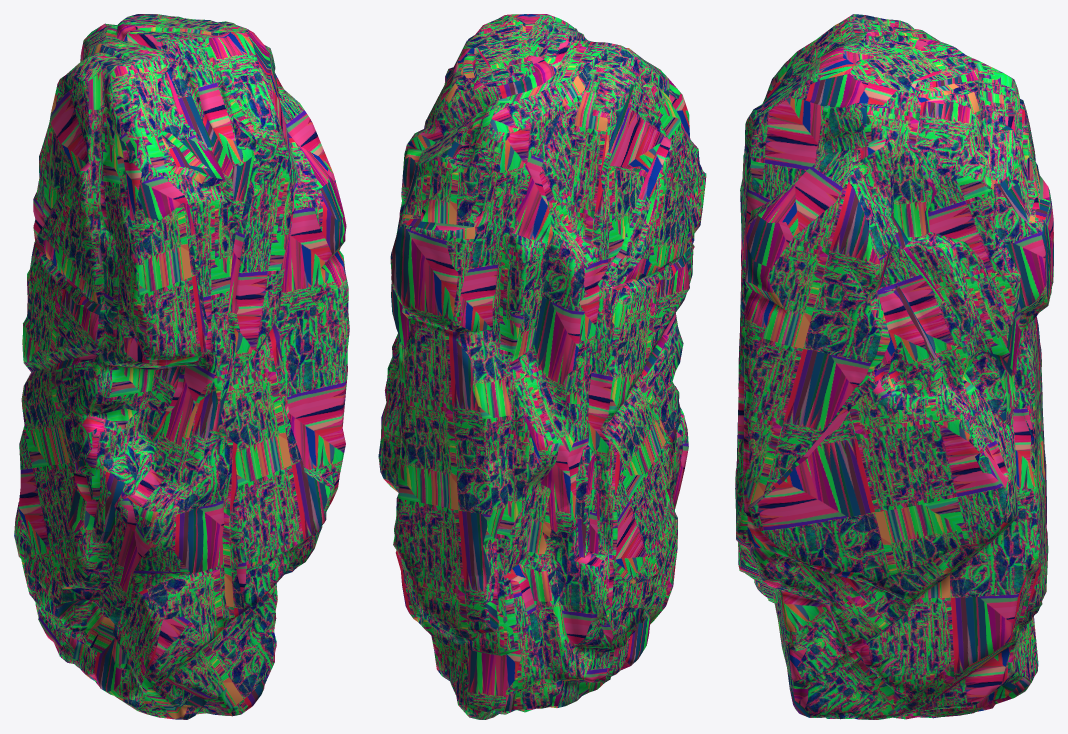
The model's file is SM_Rock5.fbx.
The picture shows the model from 3 angles, left to right: view 1: azimuth 30°, elevation 25°; view 2: azimuth 150°, elevation 25°; view 3: azimuth 270°, elevation 25°; orthographic projection. The views are drawn at different scales.
Parts seen in each view (by area): view 1: SM_Rock5_LOD0; view 2: SM_Rock5_LOD0; view 3: SM_Rock5_LOD0.
Boxes of the visible parts, x1=… form: SM_Rock5_LOD0: x1=14, y1=14, x2=349, y2=719; SM_Rock5_LOD0: x1=378, y1=14, x2=706, y2=719; SM_Rock5_LOD0: x1=735, y1=14, x2=1053, y2=719.
Bounding box in the file's own units: 278 × 319 × 738.
Materials: 1 (1 with a texture image).
